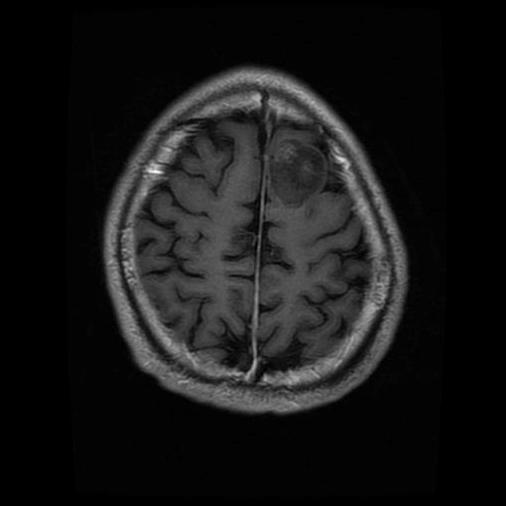Tumour-Glioma: (265, 134, 327, 224)
